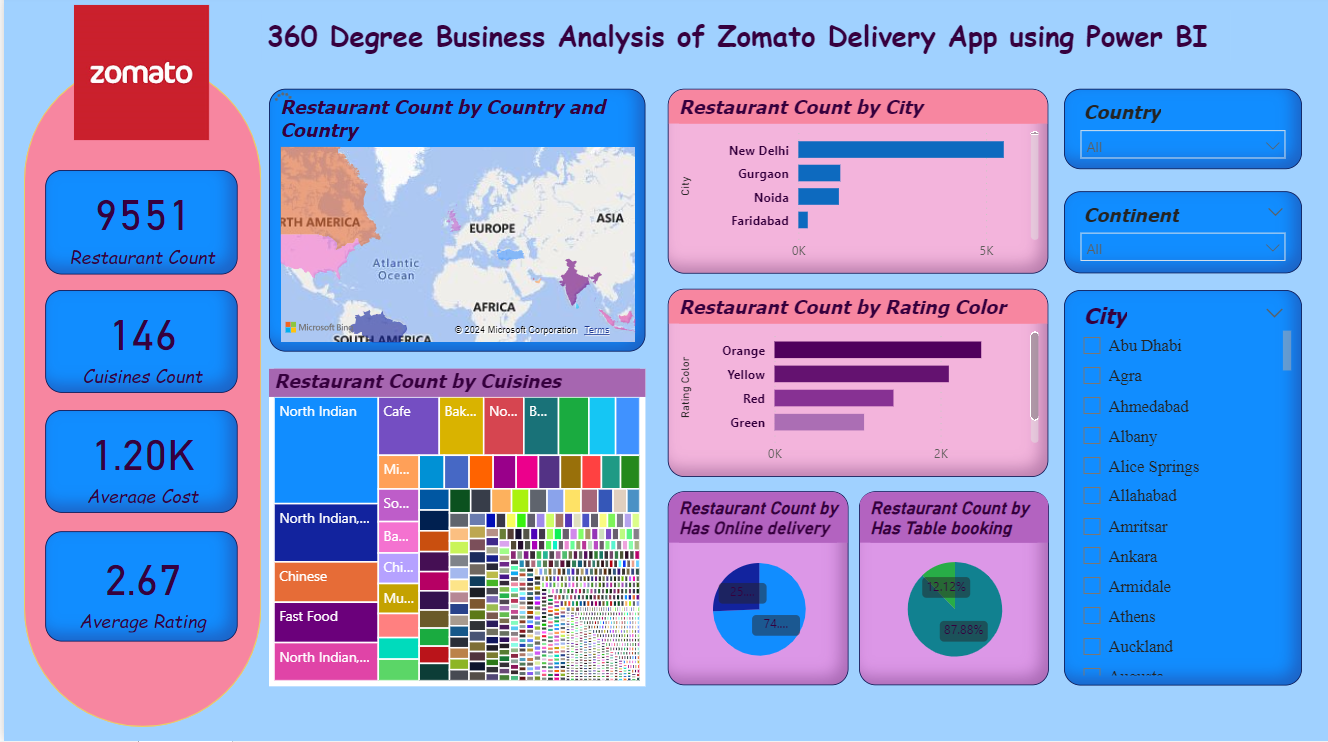

What the dashboard file says about the page in this screenshot:
{"tool":"powerbi","page":{"name":"Page 1","canvas":[1280,720],"ordinal":0},"visuals":[{"type":"shape","box":[18.7,63.4,229,642.2],"z":0},{"type":"card","fields":{"Values":["Zomato Global.Restaurant Count"]},"box":[40.3,168.5,185.8,100.8],"z":1000},{"type":"card","fields":{"Values":["Fact Table.Average Cost"]},"box":[40.3,400.3,185.8,99.4],"z":2000},{"type":"card","fields":{"Values":["Fact Table.Average Rating"]},"box":[40.3,517,185.8,106.6],"z":3000},{"type":"card","fields":{"Values":["Cuisines.Cuisines Count"]},"box":[40.3,285.1,185.8,99.4],"z":4000},{"type":"filledMap","fields":{"Category":["Country-Code.Country"],"Series":["Country-Code.Country"]},"box":[255.1,90.7,362.8,253.7],"z":5000},{"type":"treemap","fields":{"Group":["Zomato Global.Cuisines"],"Values":["Zomato Global.Restaurant Count"]},"box":[255.1,360,362.8,306.1],"z":6000},{"type":"slicer","fields":{"Values":["Country-Code.Country"]},"box":[1023.3,90.7,229.6,78],"z":7000},{"type":"slicer","fields":{"Values":["Country-Code.Continent"]},"box":[1023.3,189.9,229.6,79.4],"z":8000},{"type":"slicer","fields":{"Values":["Zomato Global.City"]},"box":[1023.3,284.9,229.6,381.3],"z":9000},{"type":"textbox","box":[248,14.2,935.4,49.6],"z":10000},{"type":"image","box":[62.4,0,140.3,148.8],"z":11000},{"type":"clusteredBarChart","fields":{"Category":["Zomato Global.City"],"Y":["Zomato Global.Restaurant Count"]},"box":[640.6,90.7,367.1,178.6],"z":12000},{"type":"clusteredBarChart","fields":{"Category":["Fact Table.Rating Color"],"Y":["Zomato Global.Restaurant Count"]},"box":[640.6,283.5,367.1,181.4],"z":13000},{"type":"pieChart","fields":{"Category":["Fact Table.Has Online delivery"],"Y":["Zomato Global.Restaurant Count"]},"box":[640.6,479.1,174.3,187.1],"z":14000},{"type":"pieChart","fields":{"Category":["Fact Table.Has Table booking"],"Y":["Zomato Global.Restaurant Count"]},"box":[824.9,479.1,182.8,187.1],"z":15000}]}

Visuals, with their boxes in screenshot pixels (x1, y1, x2, y2), scaled from the page's 1280x720 canvas onto the 1328x742 screenshot:
shape: detection(19, 65, 257, 727)
card - Zomato Global.Restaurant Count: detection(42, 174, 235, 278)
card - Fact Table.Average Cost: detection(42, 413, 235, 515)
card - Fact Table.Average Rating: detection(42, 533, 235, 643)
card - Cuisines.Cuisines Count: detection(42, 294, 235, 396)
filledMap - Country-Code.Country x Country-Code.Country: detection(265, 93, 641, 355)
treemap - Zomato Global.Cuisines x Zomato Global.Restaurant Count: detection(265, 371, 641, 686)
slicer - Country-Code.Country: detection(1062, 93, 1300, 174)
slicer - Country-Code.Continent: detection(1062, 196, 1300, 278)
slicer - Zomato Global.City: detection(1062, 294, 1300, 687)
textbox: detection(257, 15, 1228, 66)
image: detection(65, 0, 210, 153)
clusteredBarChart - Zomato Global.City x Zomato Global.Restaurant Count: detection(665, 93, 1045, 278)
clusteredBarChart - Fact Table.Rating Color x Zomato Global.Restaurant Count: detection(665, 292, 1045, 479)
pieChart - Fact Table.Has Online delivery x Zomato Global.Restaurant Count: detection(665, 494, 845, 687)
pieChart - Fact Table.Has Table booking x Zomato Global.Restaurant Count: detection(856, 494, 1045, 687)
